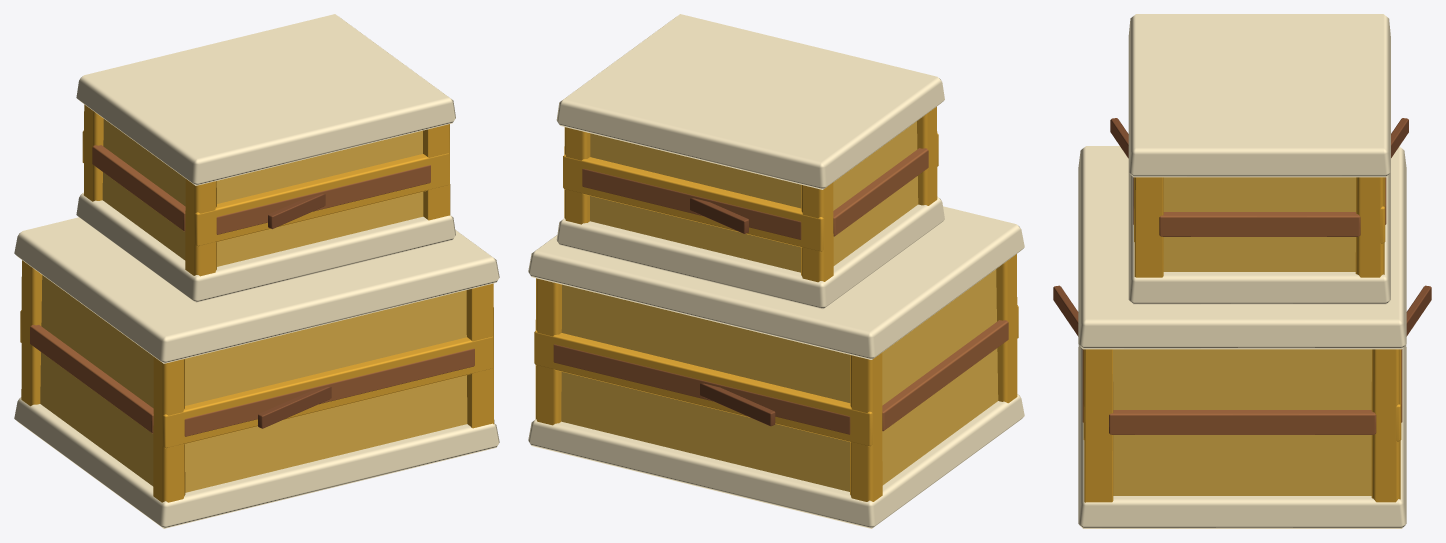
Rendered from b_platform_box.glb.
The picture shows the model from 3 angles, left to right: view 1: azimuth 30°, elevation 25°; view 2: azimuth 150°, elevation 25°; view 3: azimuth 270°, elevation 25°; orthographic projection. The views are drawn at different scales.
Parts seen in each view (by area): view 1: b_platform_box; view 2: b_platform_box; view 3: b_platform_box.
Part boxes in pixels (<box>): b_platform_box: <box>14,14,499,528</box>; b_platform_box: <box>528,14,1024,528</box>; b_platform_box: <box>1053,14,1431,528</box>.
Size of the model in its own units: 1.98 by 1.89 by 1.75.
